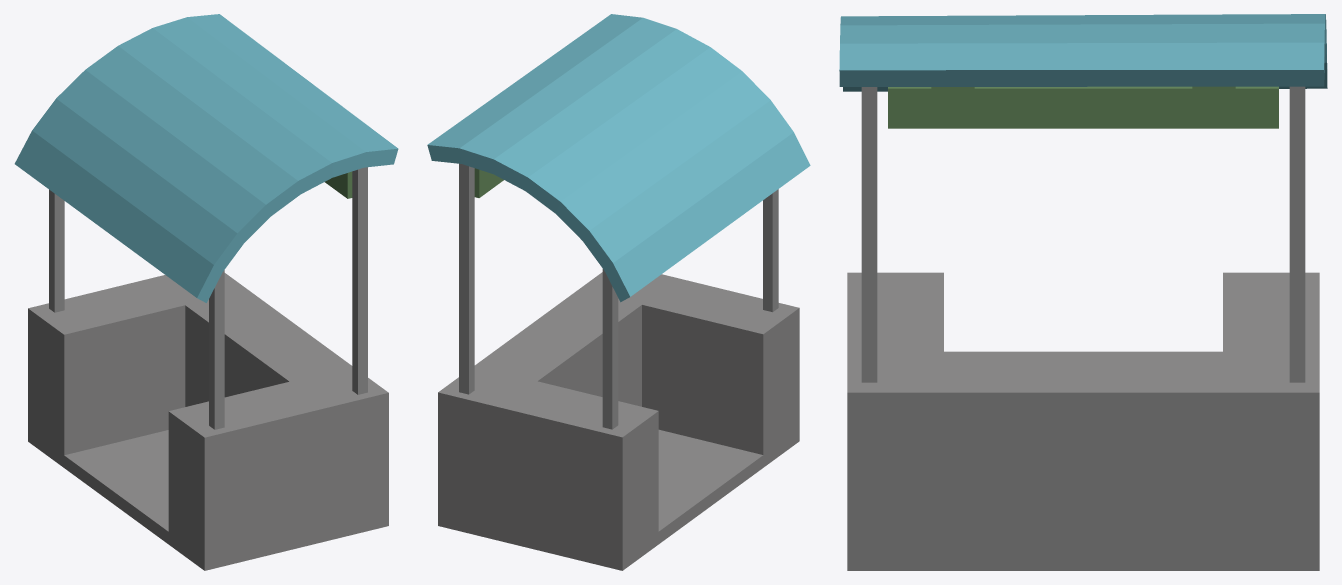
File: booth3.2.fbx
The picture shows the model from 3 angles, left to right: view 1: azimuth 30°, elevation 25°; view 2: azimuth 150°, elevation 25°; view 3: azimuth 270°, elevation 25°; orthographic projection. The views are drawn at different scales.
Visible parts, largest first — view 1: Cube.002, Cube, Cube.001; view 2: Cube.002, Cube, Cube.001, Cube.003; view 3: Cube.002, Cube, Cube.003, Cube.001.
Boxes of the visible parts, <box> form: Cube.002: <box>28,273,388,570</box>; Cube: <box>14,14,398,302</box>; Cube.001: <box>49,167,367,429</box>; Cube.002: <box>438,272,799,570</box>; Cube: <box>427,14,810,302</box>; Cube.001: <box>459,163,778,429</box>; Cube.003: <box>474,168,503,197</box>; Cube.002: <box>847,272,1319,570</box>; Cube: <box>839,14,1327,91</box>; Cube.003: <box>888,86,1278,128</box>; Cube.001: <box>861,86,1305,382</box>.
Size of the model in its own units: 1422 by 2558 by 2205.
